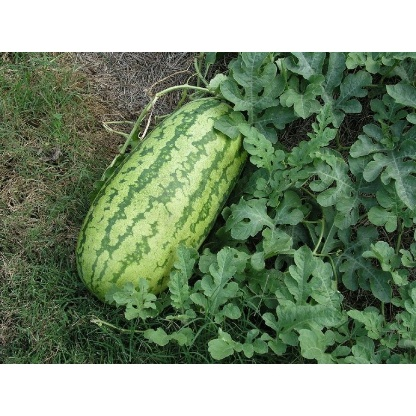duahau: (75, 84, 261, 317)
